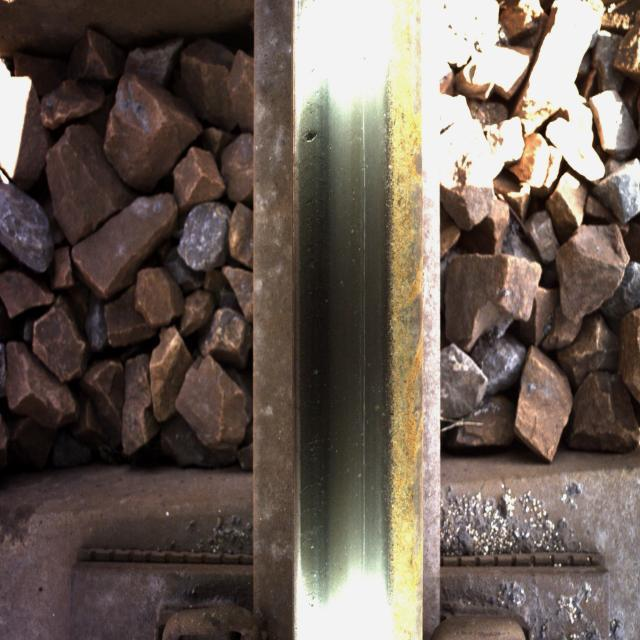crack: (291, 86, 339, 190)
